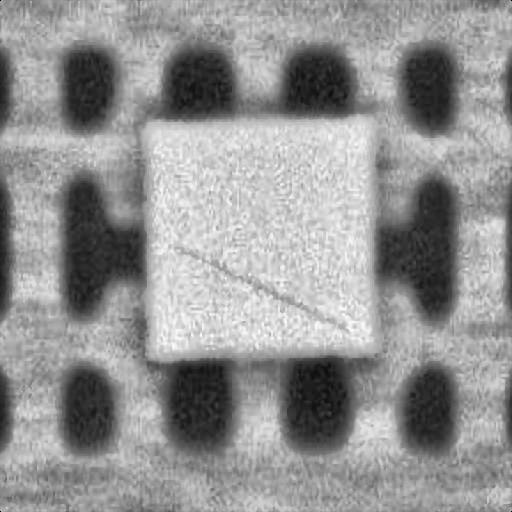DIE_CRACK: (262, 163, 512, 219)
